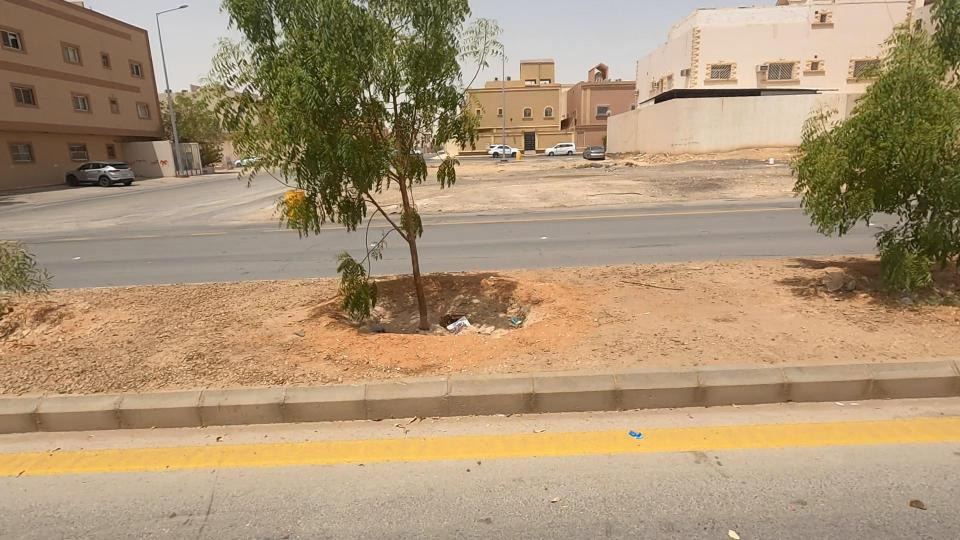CLUTTER_SIDEWALK: (298, 216, 960, 442), (0, 233, 421, 431)
GARBAGE: (357, 283, 592, 365)
